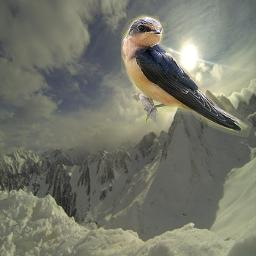Swallow: (121, 10, 254, 137)
